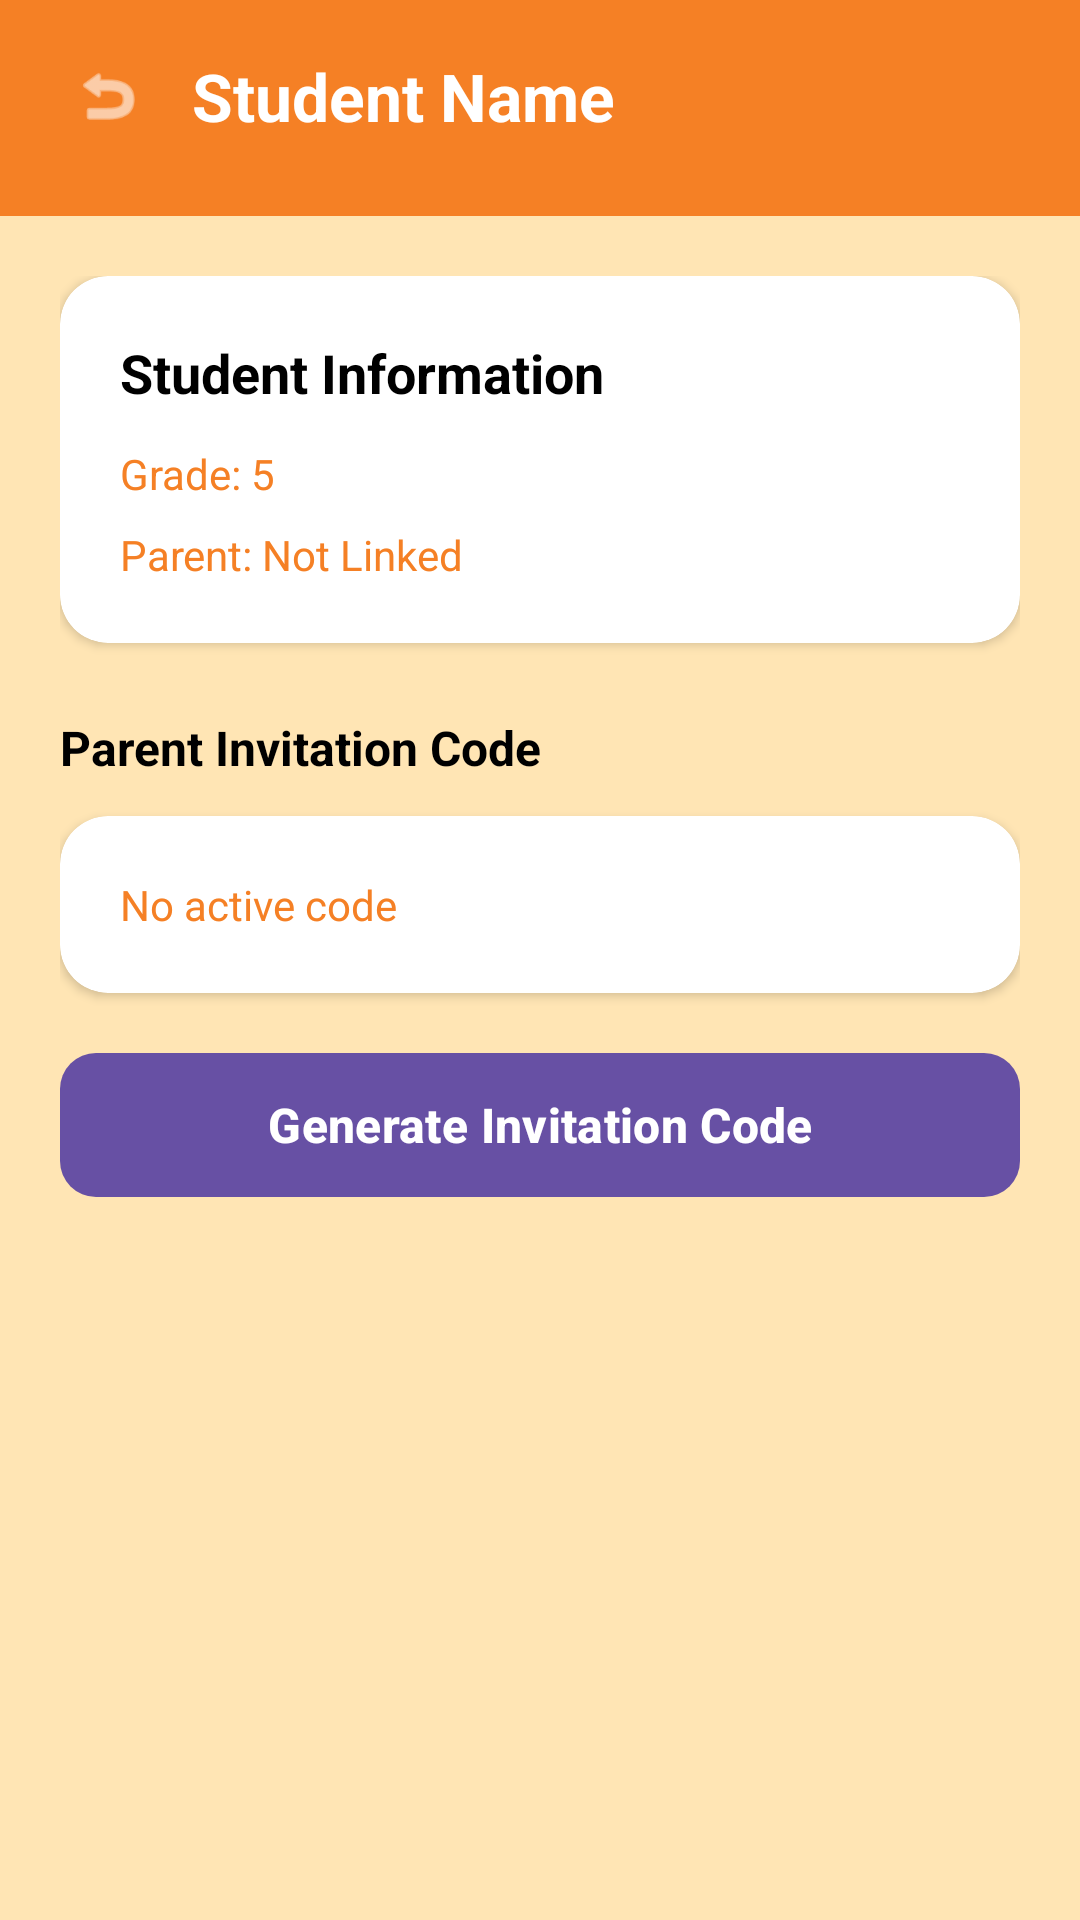

Icon click points for this 1080x1920 phone screenshot, format (x=x, y=y):
Back: (x=109, y=96)
